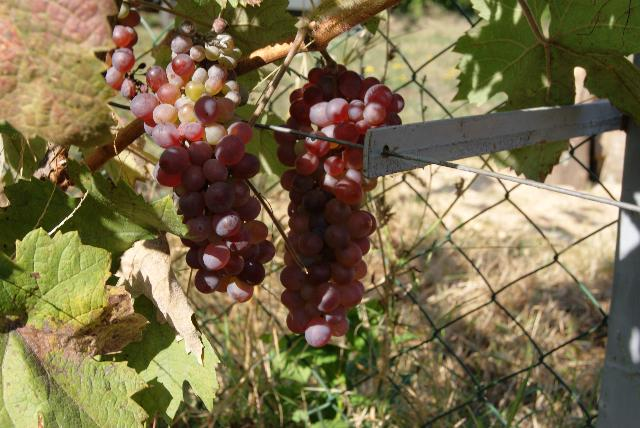grapes: (131, 19, 275, 302), (274, 66, 404, 348)
